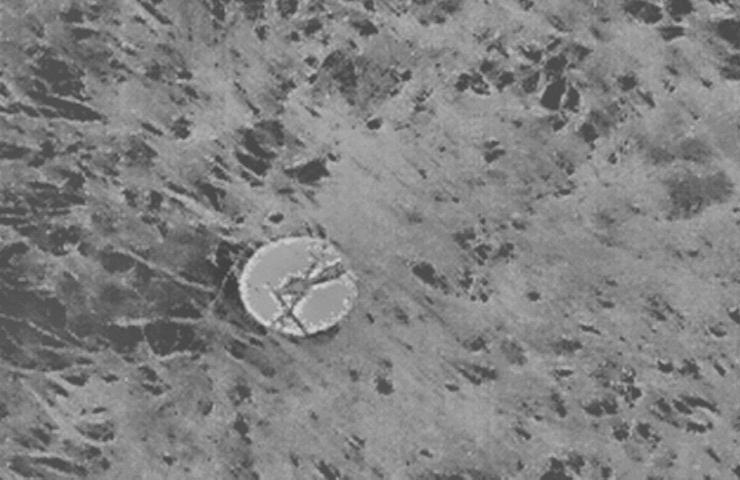landmines: (237, 229, 361, 341)
